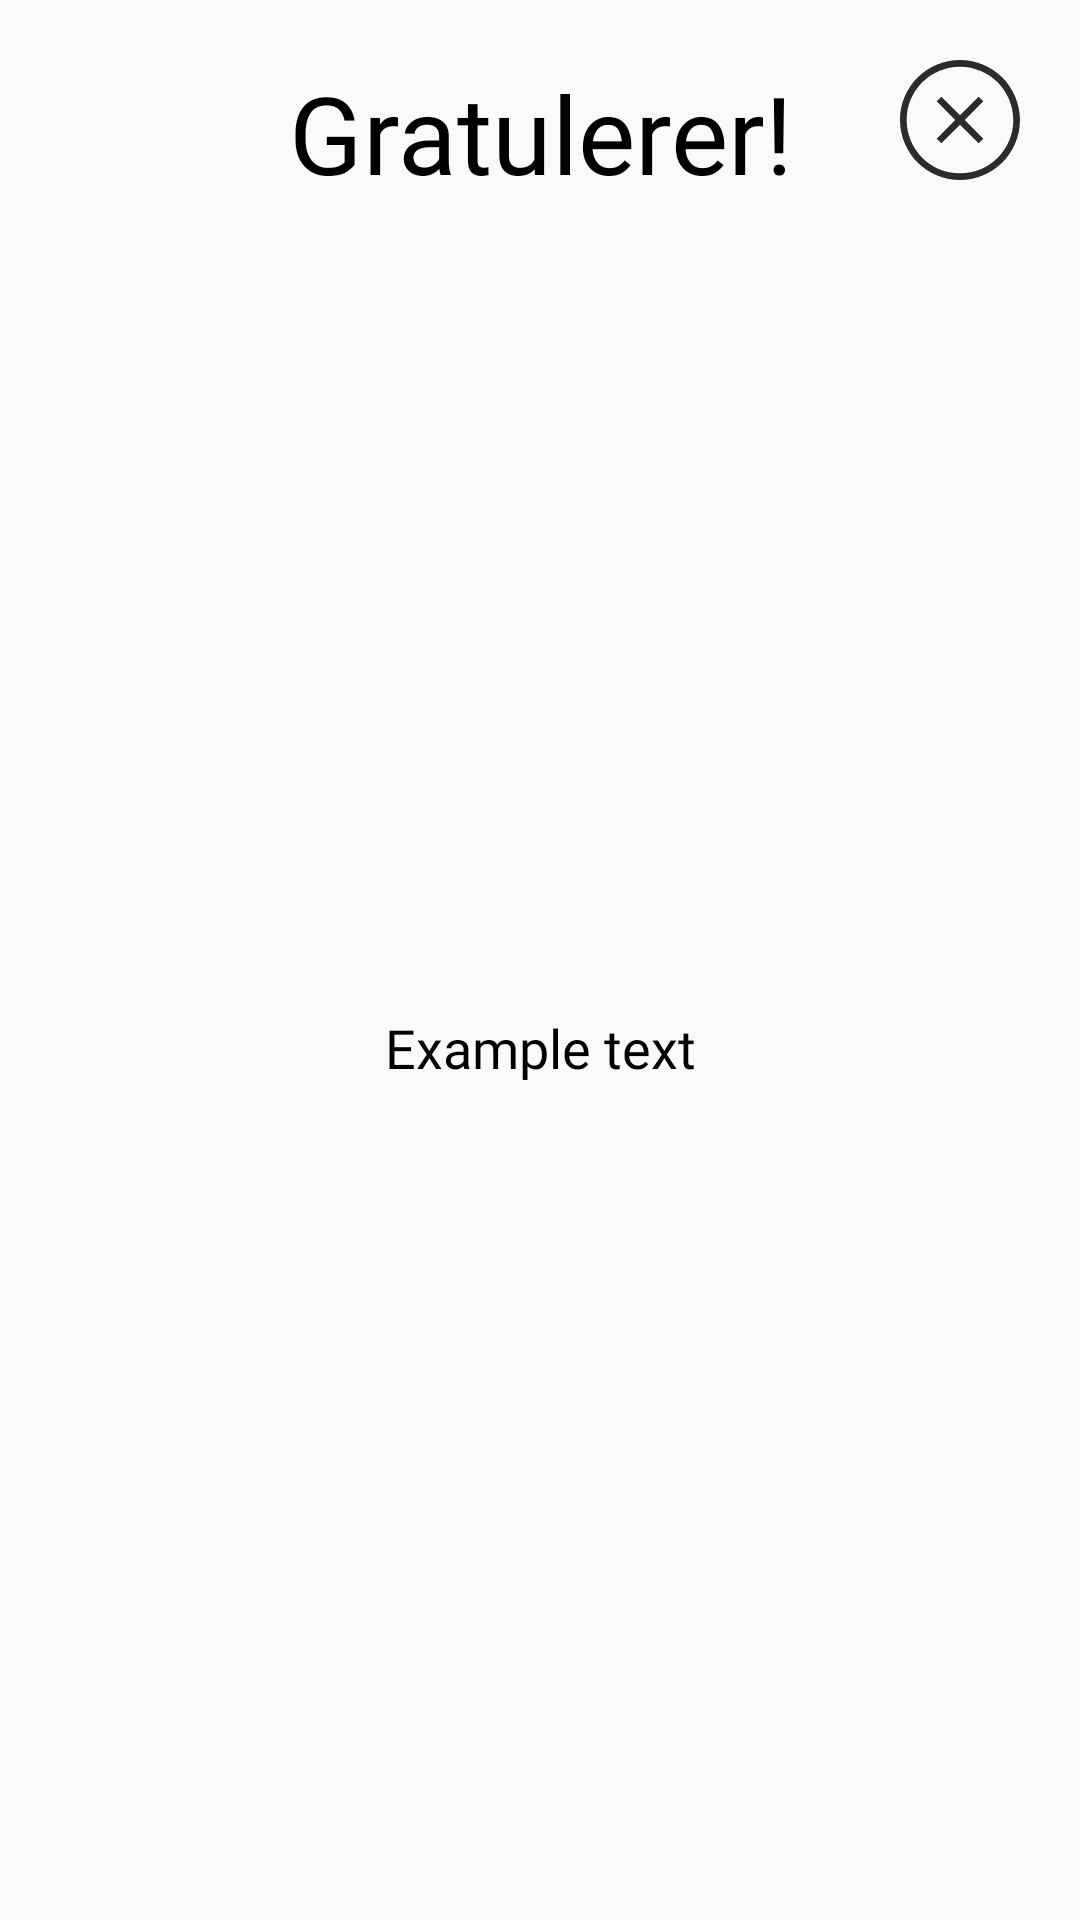

Locate icon controls on the screen. Image size 1080x1920, boxes as bbox=[x1, y1, x2, y2].
close marker: bbox=[900, 60, 1020, 180]
